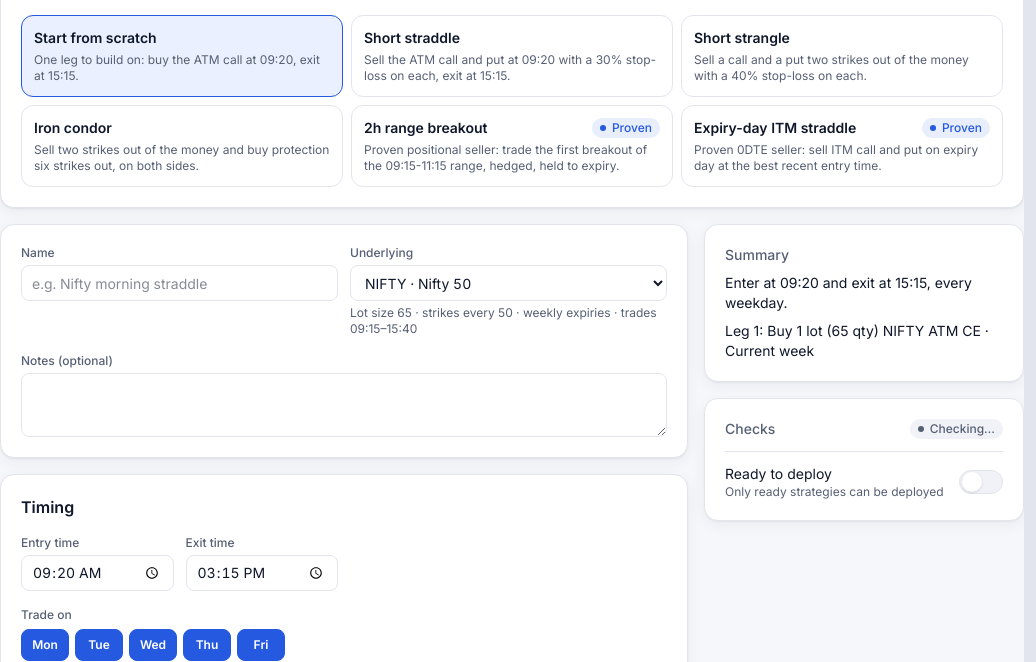
Test: StrategyBuilder › shows the proven strategies' parameters instead of legs
Step 1. Click the radio button labelled "2h range breakout" → click(512, 146), box left=351, top=105, right=673, bottom=187
(page scrolled)
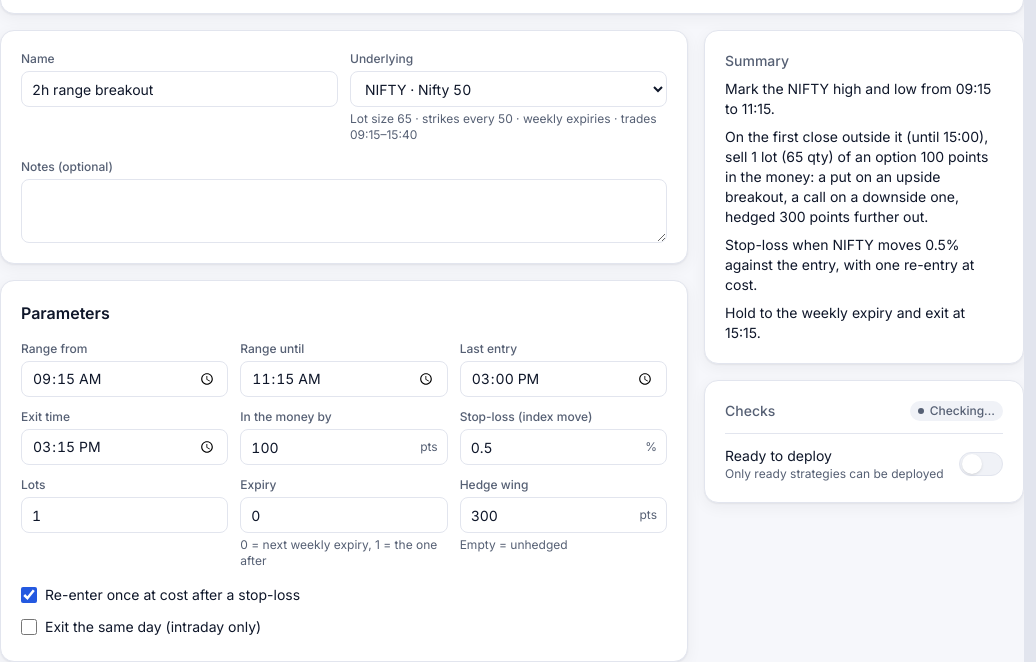
expect the time field labelled "Range until" holds "11:15": met, box left=240, top=361, right=448, bottom=397
Step 2. Clear the number field labelled "Hedge wing" → (563, 515), box left=460, top=497, right=667, bottom=533
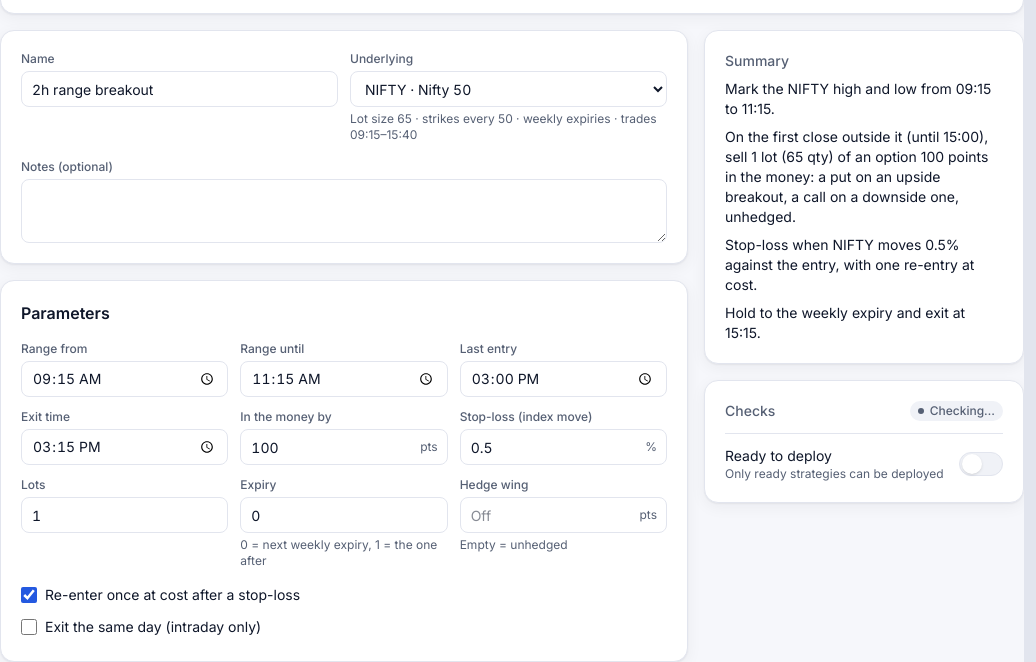
expect the list item ", unhedged." is shown: met, box left=725, top=128, right=988, bottom=225
